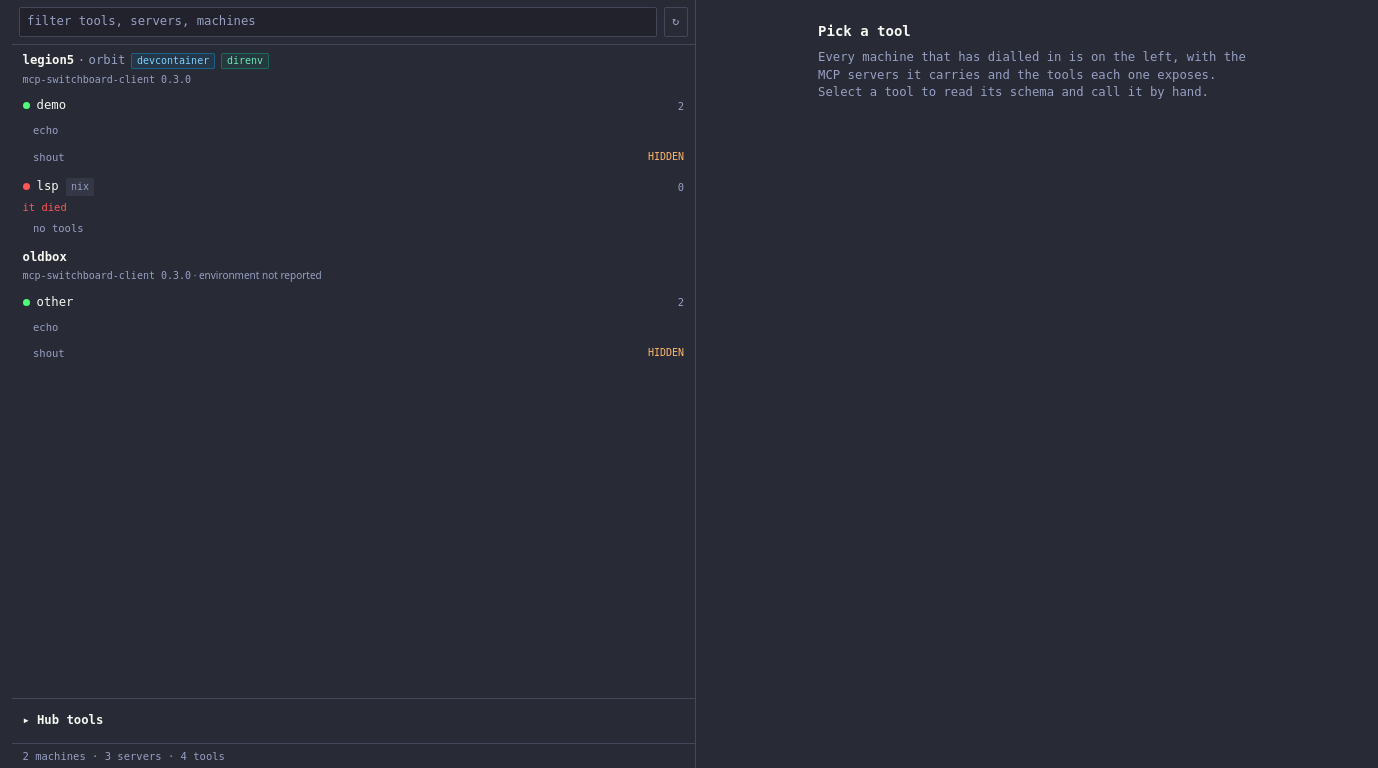
Scenario: Connections environment › filters by devcontainer
Type "devcontainer" into the search field with placeholder "filter tools, servers, machines". click: (338, 22)
box: [19,7,657,37]
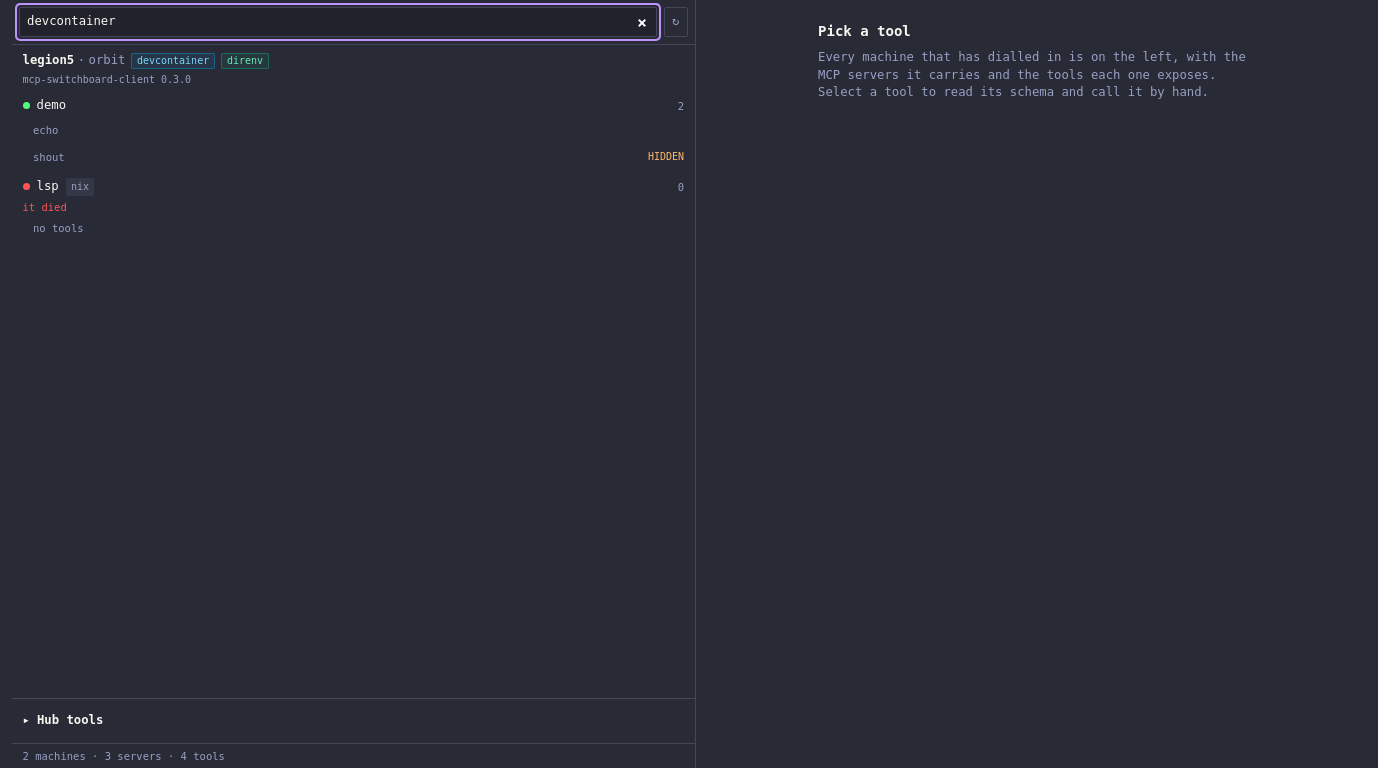
Expected: the text "orbit" is shown, [88,52,125,70]
Expected: the text "oldbox" is gone
